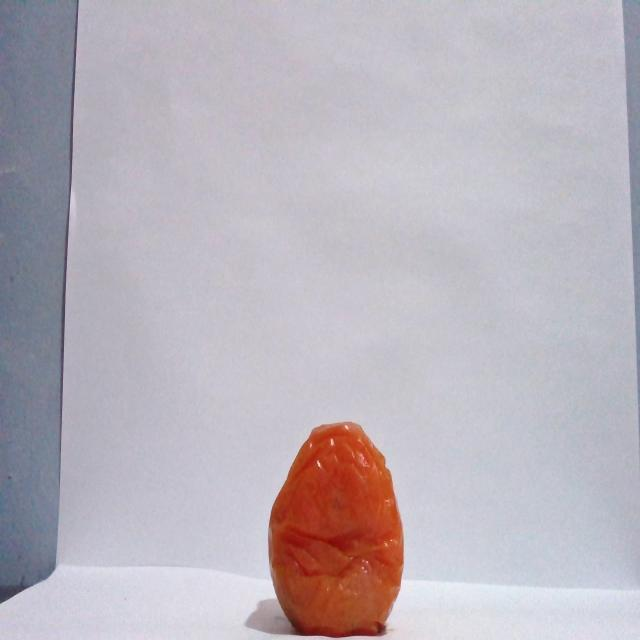Red: (266, 420, 404, 636)
